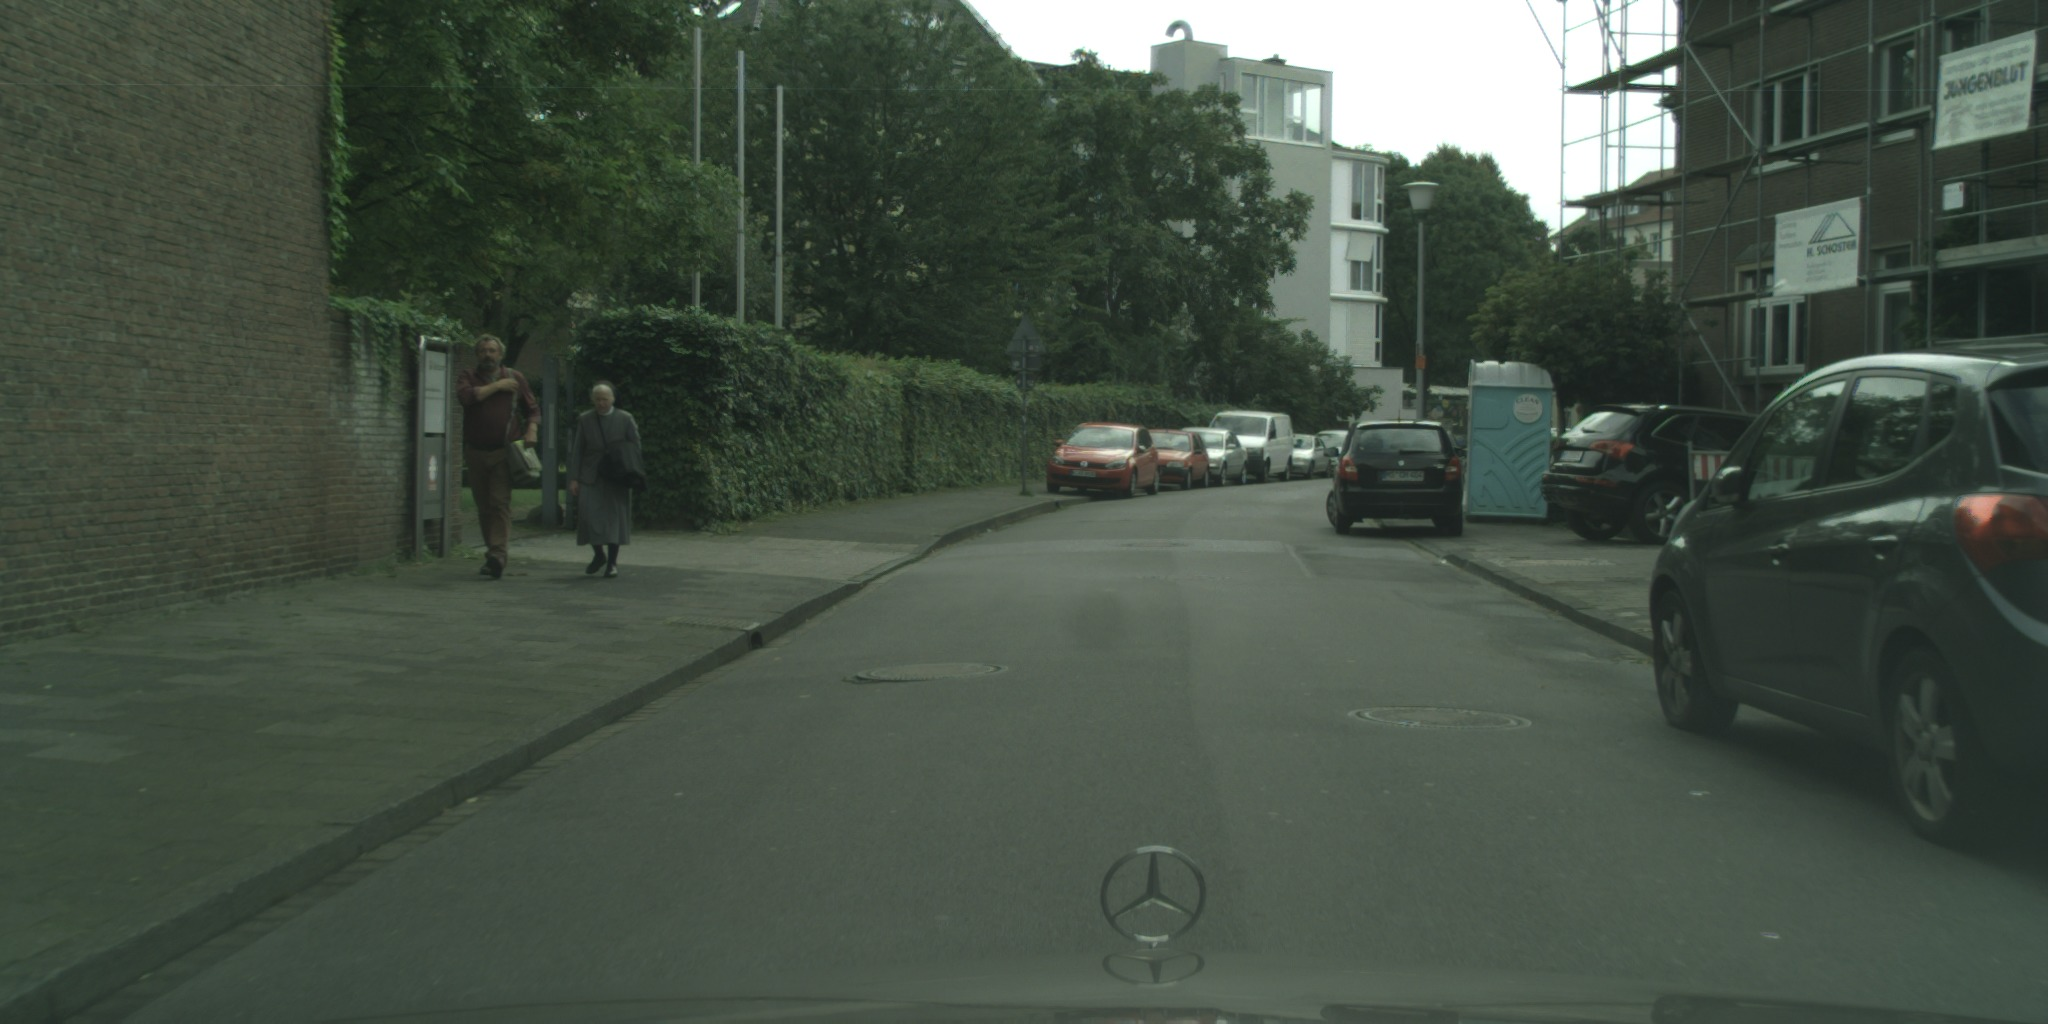car: (1650, 343, 2048, 849), (1540, 404, 1768, 546), (1323, 419, 1466, 538), (1046, 422, 1161, 499), (1208, 410, 1293, 484), (1178, 427, 1248, 487), (1144, 429, 1210, 491), (1287, 433, 1331, 479), (1313, 430, 1354, 478), (1548, 428, 1575, 442)
person: (457, 334, 542, 581), (568, 384, 645, 579)
